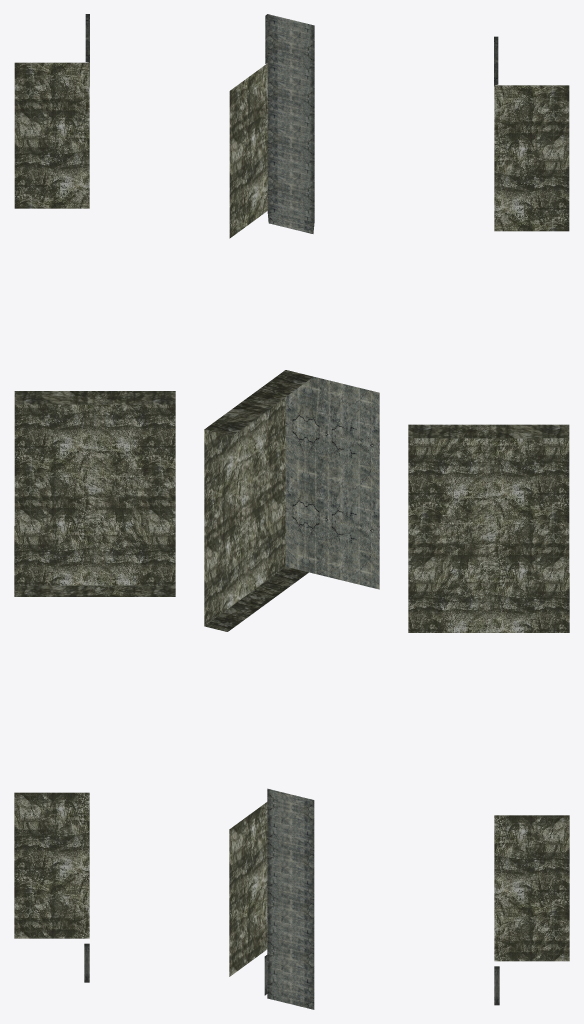
The model's file is taijie03.obj.
3 renders of one model, left to right at view 1: azimuth 90°, elevation 25°; view 2: azimuth 150°, elevation 25°; view 3: azimuth 270°, elevation 25°, orthographic.
Parts seen in each view (by area): view 1: taijie03; view 2: taijie03; view 3: taijie03.
Part boxes in pixels (left/top/right/bottom): taijie03: left=14, top=14, right=175, bottom=982; taijie03: left=204, top=14, right=379, bottom=1009; taijie03: left=408, top=36, right=569, bottom=1005.
Bounding box in the file's own units: 99.94 × 1000 × 150.
